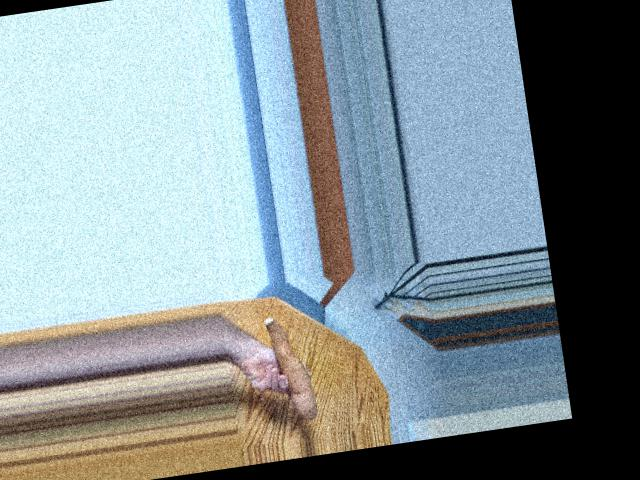sweet_potato: (262, 314, 324, 419)
